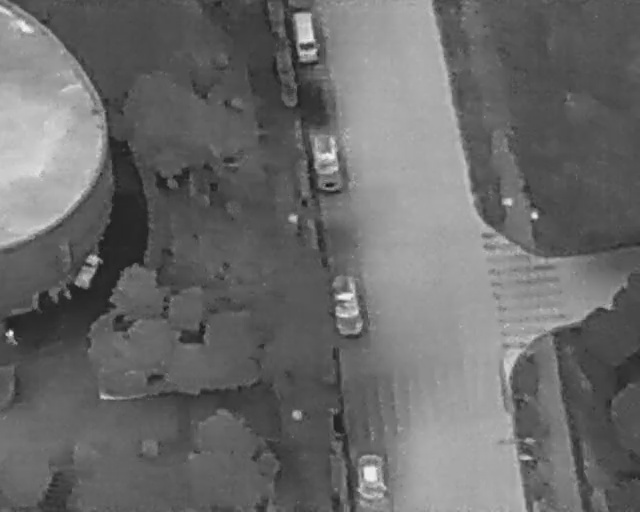Car: (327, 271, 368, 340), (310, 132, 345, 194), (355, 455, 387, 512), (291, 10, 321, 65)
